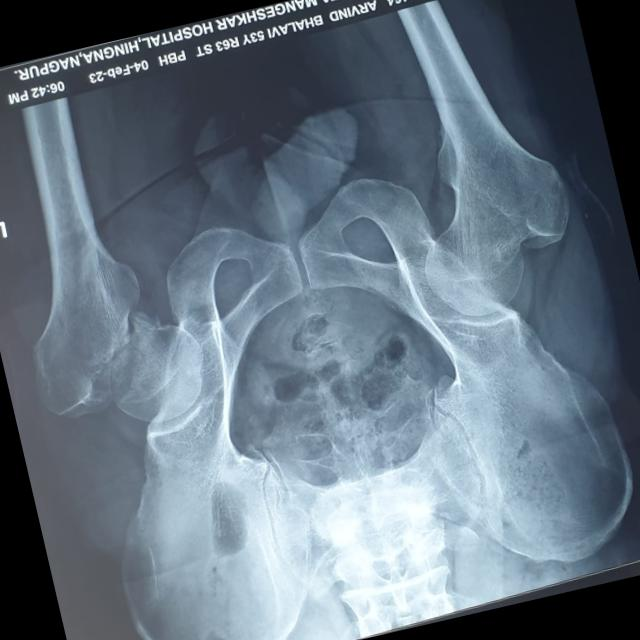left-neck: (31, 153, 138, 416), (100, 315, 202, 421)
normal-right: (420, 46, 569, 314)
